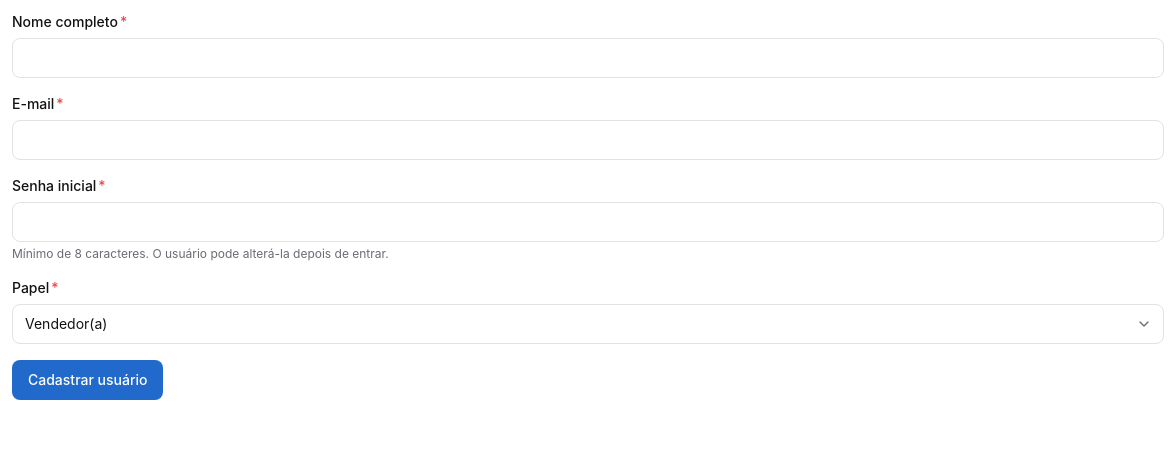
UsuarioForm › exibe erros de validação ao submeter vazio
Click the button "Cadastrar usuário".
click(88, 380)  # box x1=12 y1=360 x2=163 y2=400
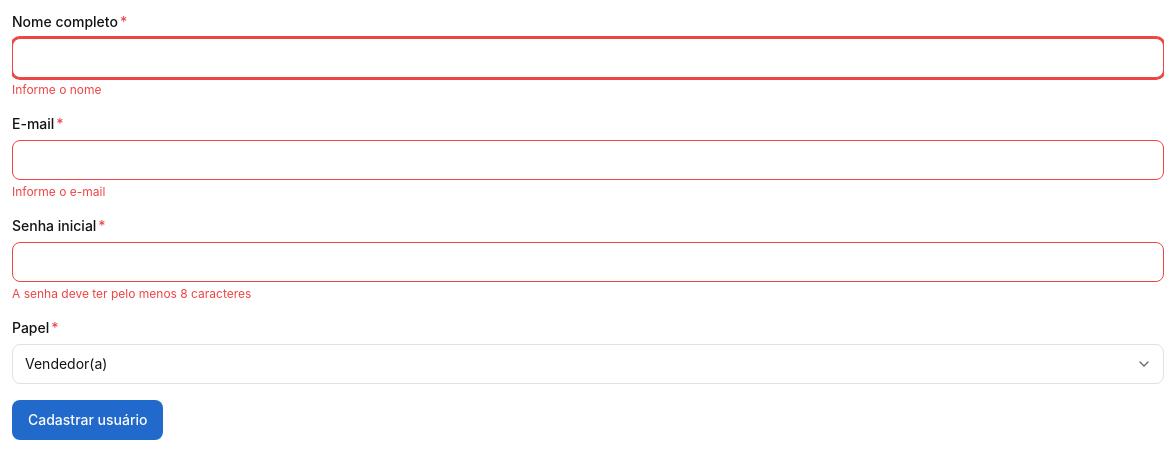
Now the text "Informe o nome" is shown, box x1=12 y1=82 x2=102 y2=97
